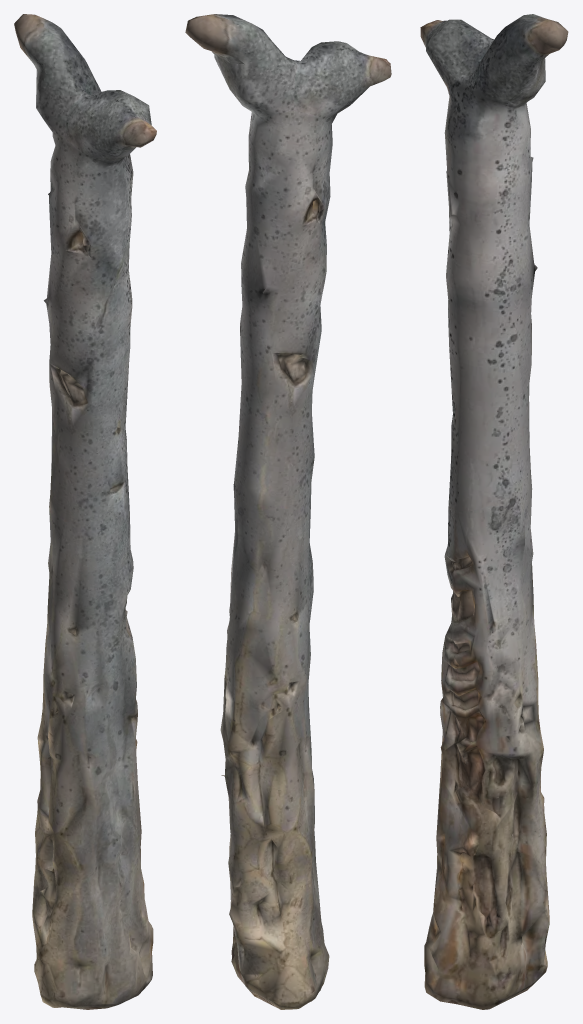
The model's file is tree_dead_quiver.glb.
The picture shows the model from 3 angles, left to right: view 1: azimuth 90°, elevation 25°; view 2: azimuth 150°, elevation 25°; view 3: azimuth 270°, elevation 25°; orthographic projection. The views are drawn at different scales.
Parts seen in each view (by area): view 1: dead_quiver_trunk_LOD0; view 2: dead_quiver_trunk_LOD0; view 3: dead_quiver_trunk_LOD0.
Part boxes in pixels (x1,y1,x2,y2): dead_quiver_trunk_LOD0: [14, 14, 156, 1009]; dead_quiver_trunk_LOD0: [185, 14, 391, 1009]; dead_quiver_trunk_LOD0: [420, 14, 568, 1009].
Size of the model in its own units: 0.3053 by 1.99 by 0.2681.
Materials: 1 (1 with a texture image).
